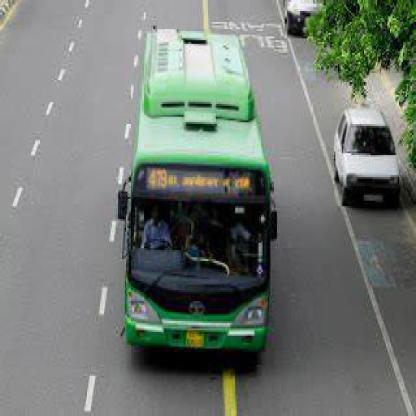bus: (131, 30, 275, 368)
car: (335, 107, 403, 209), (286, 3, 326, 41)
